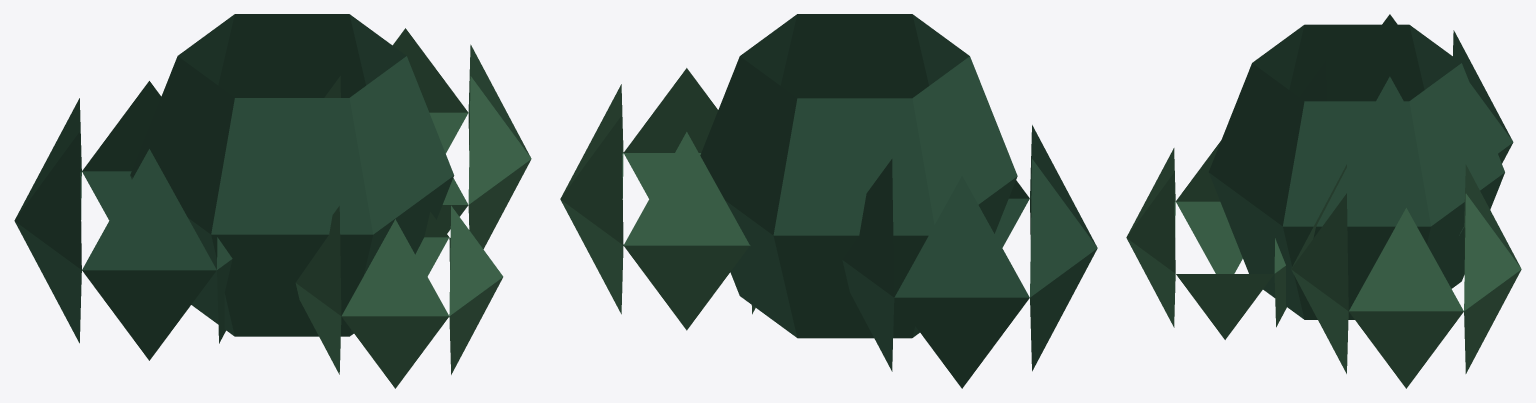
File: terrain_bush_tall_lod1.glb
The picture shows the model from 3 angles, left to right: view 1: azimuth 30°, elevation 25°; view 2: azimuth 150°, elevation 25°; view 3: azimuth 270°, elevation 25°; orthographic projection. The views are drawn at different scales.
Visible parts, largest first — view 1: terrain_bush_tall_lod1; view 2: terrain_bush_tall_lod1; view 3: terrain_bush_tall_lod1.
Boxes of the visible parts, bbox=[...] form: terrain_bush_tall_lod1: bbox=[14, 14, 531, 388]; terrain_bush_tall_lod1: bbox=[560, 14, 1097, 388]; terrain_bush_tall_lod1: bbox=[1126, 14, 1521, 388].
Bounding box in the file's own units: 2.96 × 1.6 × 2.4.
